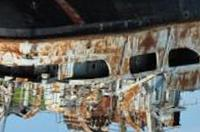rust: (58, 85, 112, 132), (29, 41, 128, 58), (171, 25, 200, 41), (137, 33, 160, 53), (1, 41, 23, 58)
